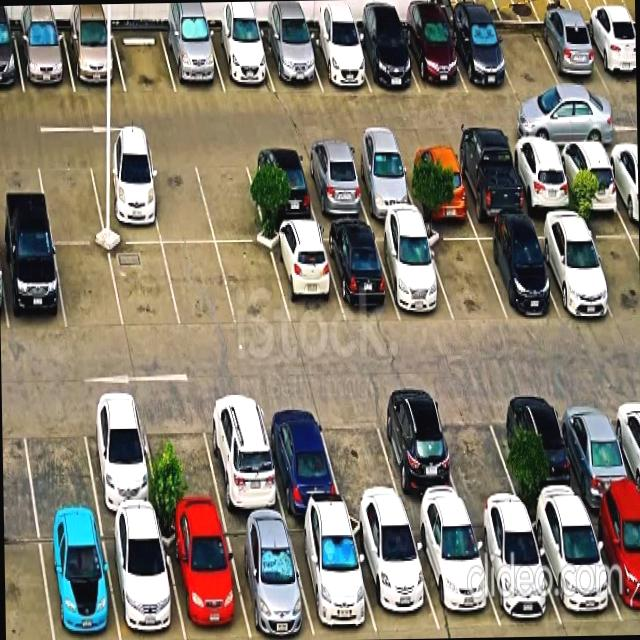car: (546, 520, 610, 636), (169, 529, 235, 640), (237, 528, 302, 640), (41, 536, 110, 640), (365, 529, 430, 639), (206, 425, 274, 530), (302, 526, 363, 640), (428, 524, 488, 638), (88, 428, 154, 530), (490, 521, 547, 637), (385, 412, 448, 516), (110, 534, 171, 640), (276, 426, 332, 534), (510, 400, 565, 506), (566, 407, 624, 504), (552, 224, 607, 326), (388, 228, 443, 323), (496, 226, 550, 322), (96, 149, 154, 237), (466, 140, 518, 235), (412, 135, 463, 230), (275, 232, 331, 318), (250, 147, 308, 230), (168, 2, 218, 98), (336, 226, 387, 320), (566, 138, 616, 232), (5, 246, 60, 329), (517, 142, 566, 235), (362, 3, 411, 94), (218, 2, 266, 92), (316, 1, 362, 92), (411, 3, 458, 92), (268, 0, 314, 90), (458, 0, 503, 91), (357, 144, 406, 226), (542, 0, 591, 82), (68, 4, 115, 88), (20, 5, 64, 92), (310, 146, 357, 224)
free: (27, 418, 92, 530), (152, 424, 213, 527), (328, 424, 393, 520), (446, 410, 504, 510), (437, 235, 497, 322), (118, 3, 170, 96), (114, 238, 169, 324), (60, 246, 116, 330), (155, 152, 206, 244), (41, 163, 97, 243), (208, 150, 260, 236), (222, 238, 276, 320), (499, 6, 549, 90), (170, 240, 222, 317)
